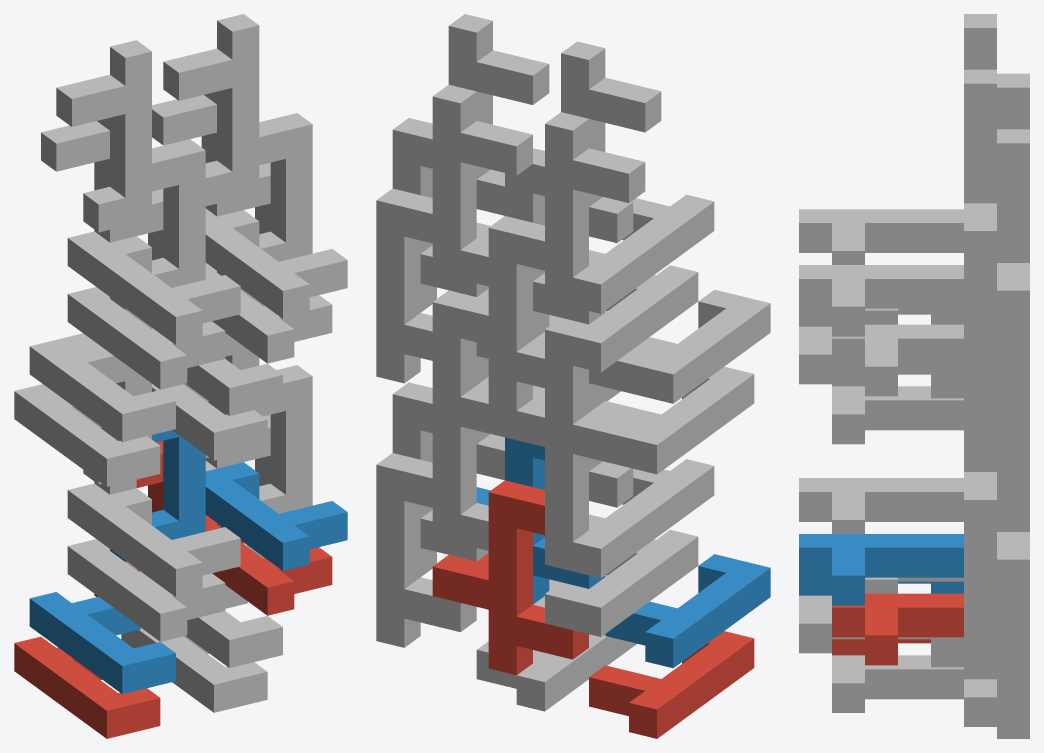
Rendered from tiling.obj.
The picture shows the model from 3 angles, left to right: view 1: azimuth 30°, elevation 25°; view 2: azimuth 150°, elevation 25°; view 3: azimuth 270°, elevation 25°; orthographic projection. The views are drawn at different scales.
Parts seen in each view (by area): view 1: copy_3_domain_4, copy_3_domain_8, copy_2_domain_4, copy_2_domain_2, copy_1_domain_2, copy_1_domain_4, copy_2_domain_6, copy_2_domain_8, copy_2_domain_1, copy_2_domain_3, copy_1_domain_3, copy_1_domain_1 (+19 smaller); view 2: copy_3_domain_3, copy_3_domain_7, copy_3_domain_1, copy_4_domain_1, copy_4_domain_3, copy_4_domain_7, copy_4_domain_5, copy_3_domain_5, copy_1_domain_1, copy_1_domain_2, copy_3_domain_4, copy_2_domain_3 (+16 smaller); view 3: copy_2_domain_6, copy_2_domain_8, copy_2_domain_2, copy_2_domain_4, copy_1_domain_5, copy_4_domain_6, copy_4_domain_8, copy_4_domain_5, copy_4_domain_7, copy_2_domain_5, copy_2_domain_7, copy_1_domain_7 (+14 smaller).
Boxes of the visible parts, x1,y1,x2,y2 form: copy_3_domain_4: [56, 40, 151, 232]; copy_3_domain_8: [163, 14, 259, 206]; copy_2_domain_4: [83, 236, 240, 344]; copy_2_domain_2: [83, 488, 240, 596]; copy_1_domain_2: [29, 592, 175, 694]; copy_1_domain_4: [29, 340, 175, 441]; copy_2_domain_6: [205, 462, 347, 570]; copy_2_domain_8: [205, 210, 347, 318]; copy_2_domain_1: [67, 539, 225, 641]; copy_2_domain_3: [67, 287, 225, 389]; copy_1_domain_3: [14, 384, 160, 486]; copy_1_domain_1: [14, 636, 160, 738]; copy_3_domain_3: [545, 112, 645, 313]; copy_3_domain_7: [432, 84, 532, 286]; copy_3_domain_1: [545, 383, 644, 578]; copy_4_domain_1: [488, 480, 588, 675]; copy_4_domain_3: [488, 216, 588, 410]; copy_4_domain_7: [376, 188, 476, 383]; copy_4_domain_5: [376, 453, 476, 647]; copy_3_domain_5: [432, 356, 516, 550]; copy_1_domain_1: [589, 631, 754, 738]; copy_1_domain_2: [605, 554, 770, 668]; copy_3_domain_4: [561, 41, 661, 242]; copy_2_domain_3: [545, 265, 698, 372]; copy_2_domain_6: [799, 534, 963, 605]; copy_2_domain_8: [799, 265, 963, 336]; copy_2_domain_2: [799, 478, 963, 533]; copy_2_domain_4: [799, 209, 963, 264]; copy_1_domain_5: [832, 655, 996, 726]; copy_4_domain_6: [964, 472, 996, 679]; copy_4_domain_8: [964, 203, 996, 410]; copy_4_domain_5: [997, 532, 1029, 738]; copy_4_domain_7: [997, 263, 1029, 469]; copy_2_domain_5: [832, 593, 963, 665]; copy_2_domain_7: [832, 324, 963, 396]; copy_1_domain_7: [832, 386, 963, 444].
Size of the model in its own units: 10 by 22 by 7.
